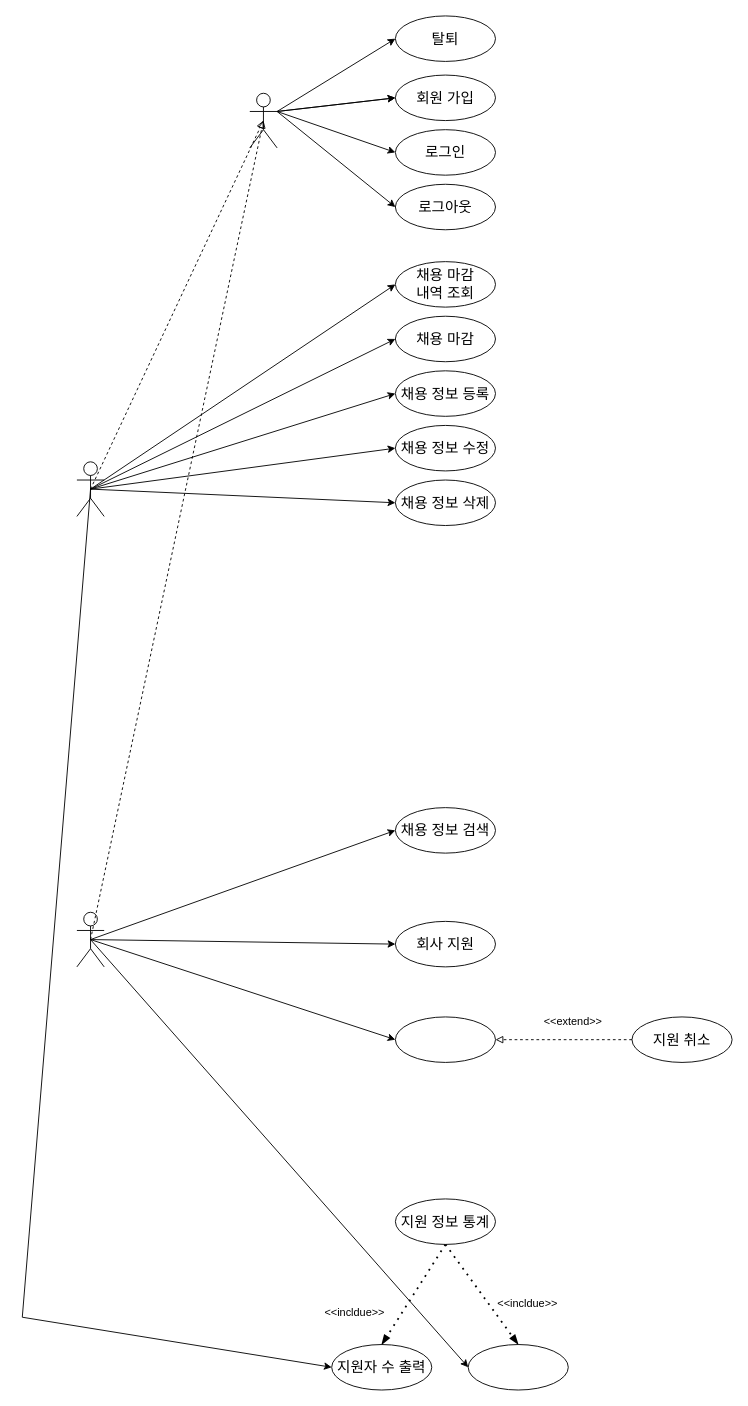
Image size: 748x1406. Some labels were removed from this diagram. Each missing label, with the centre of its shape:
사용자: the point at 263,120
일반 회원: the point at 90,939
지원 정보 조회: the point at 444,1039
지원 횟수 출력: the point at 517,1367
회사 회원: the point at 90,488
